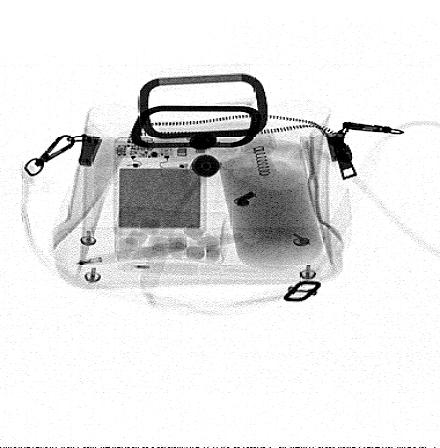Powerbank: (114, 136, 208, 237)
